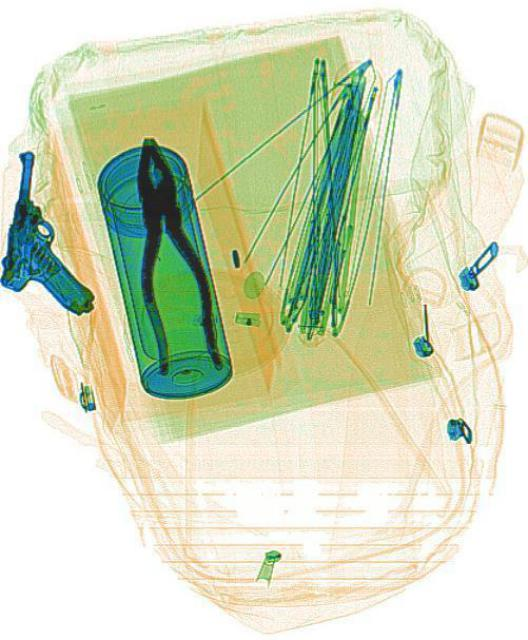Gun: (0, 146, 117, 315)
Pliers: (113, 128, 224, 384)
